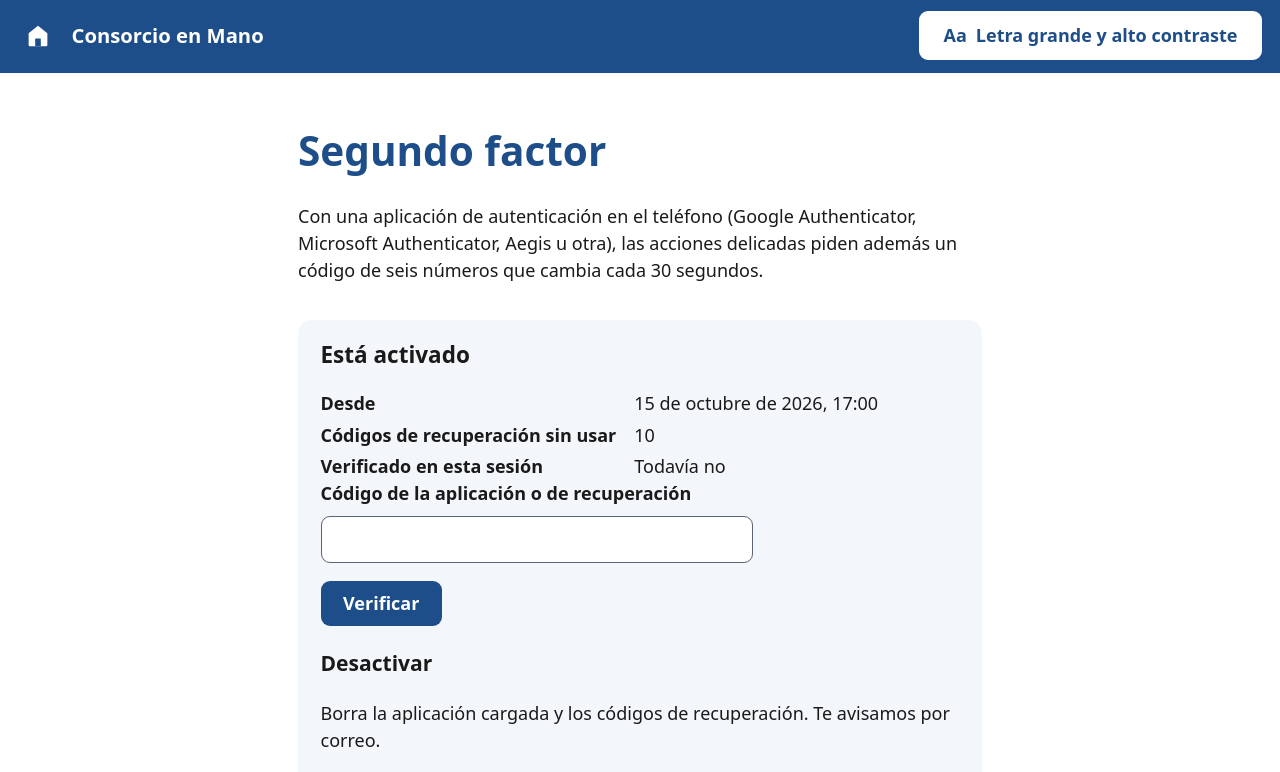
página /cuenta/segundo-factor › demasiados intentos lo dice
Expected: the heading "Está activado" is shown, [320, 339, 470, 370]
Type "042917" into the field labelled "Código de la aplicación o de recuperación".
click(536, 540); type("042917")  # box [320, 516, 752, 563]
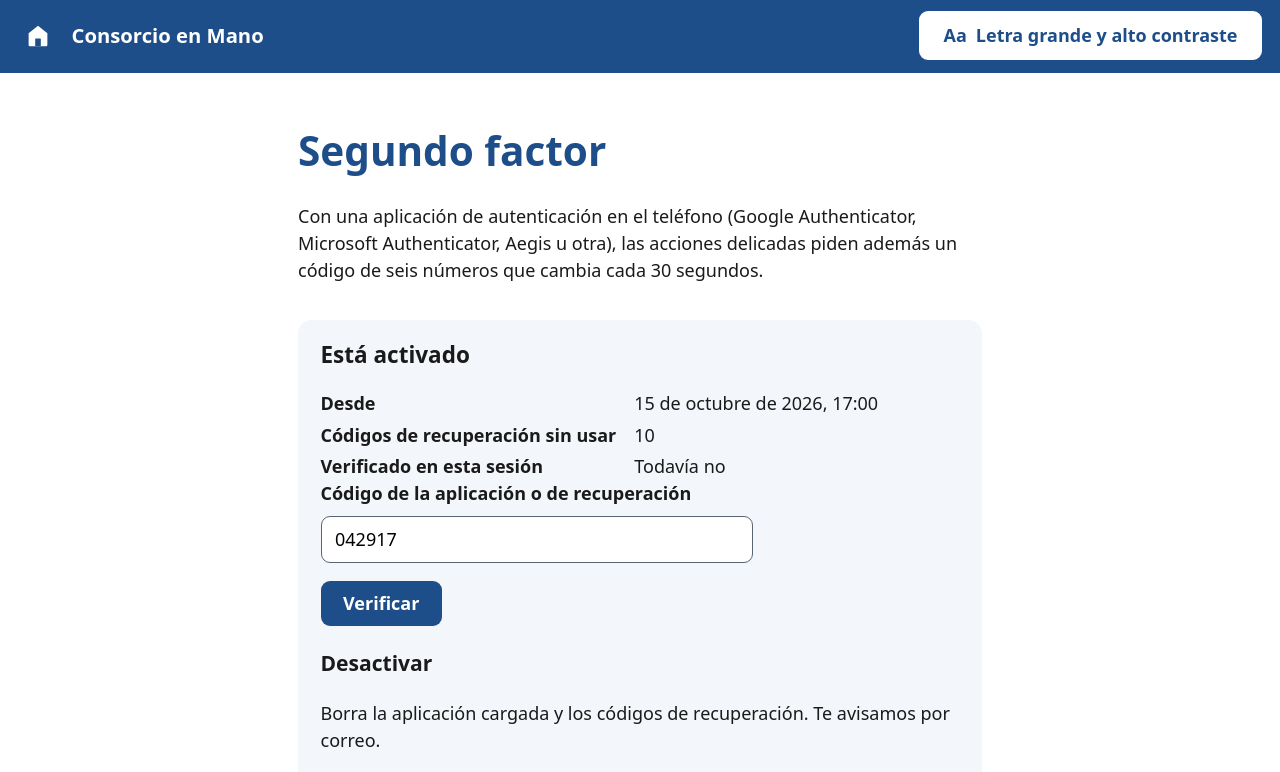
Click the button "Verificar".
click(381, 604)  # box [320, 581, 442, 626]
(page scrolled)
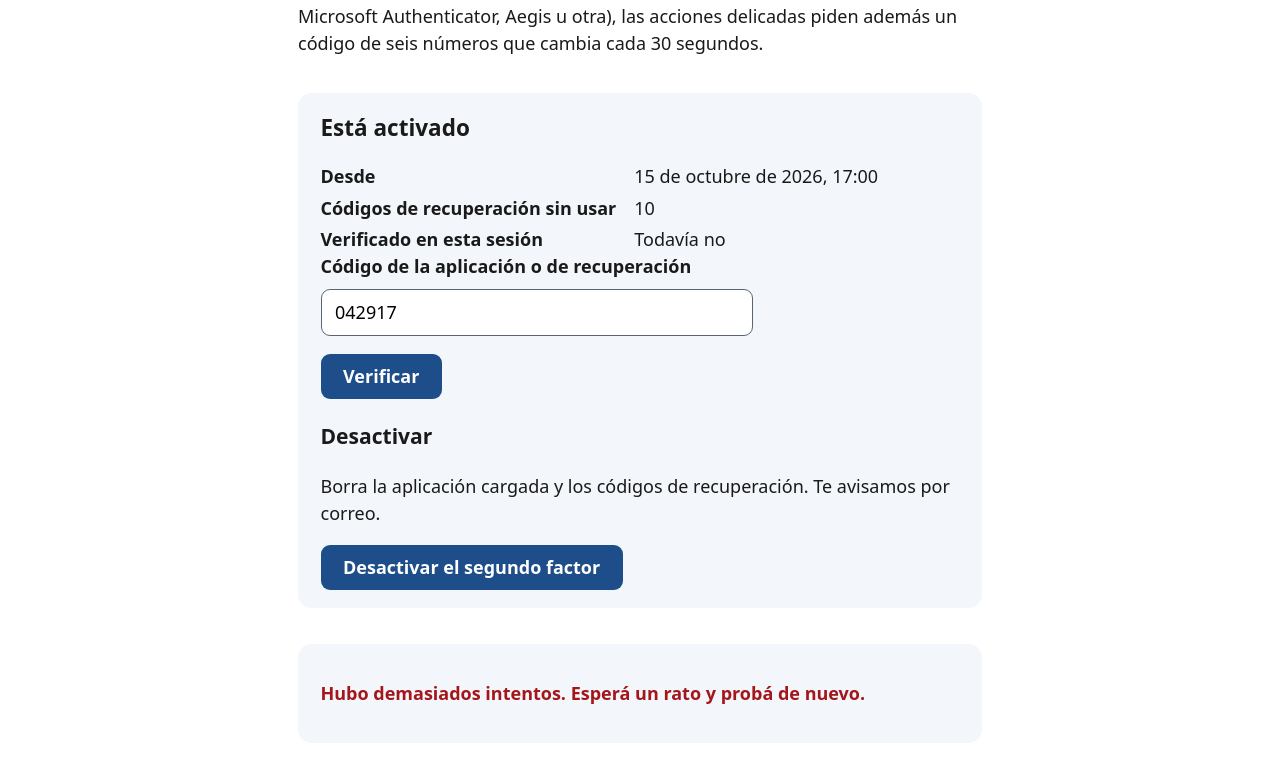
Expected: the text "Hubo demasiados intentos. Esperá un rato y probá de nuevo." is shown, [320, 680, 960, 707]
